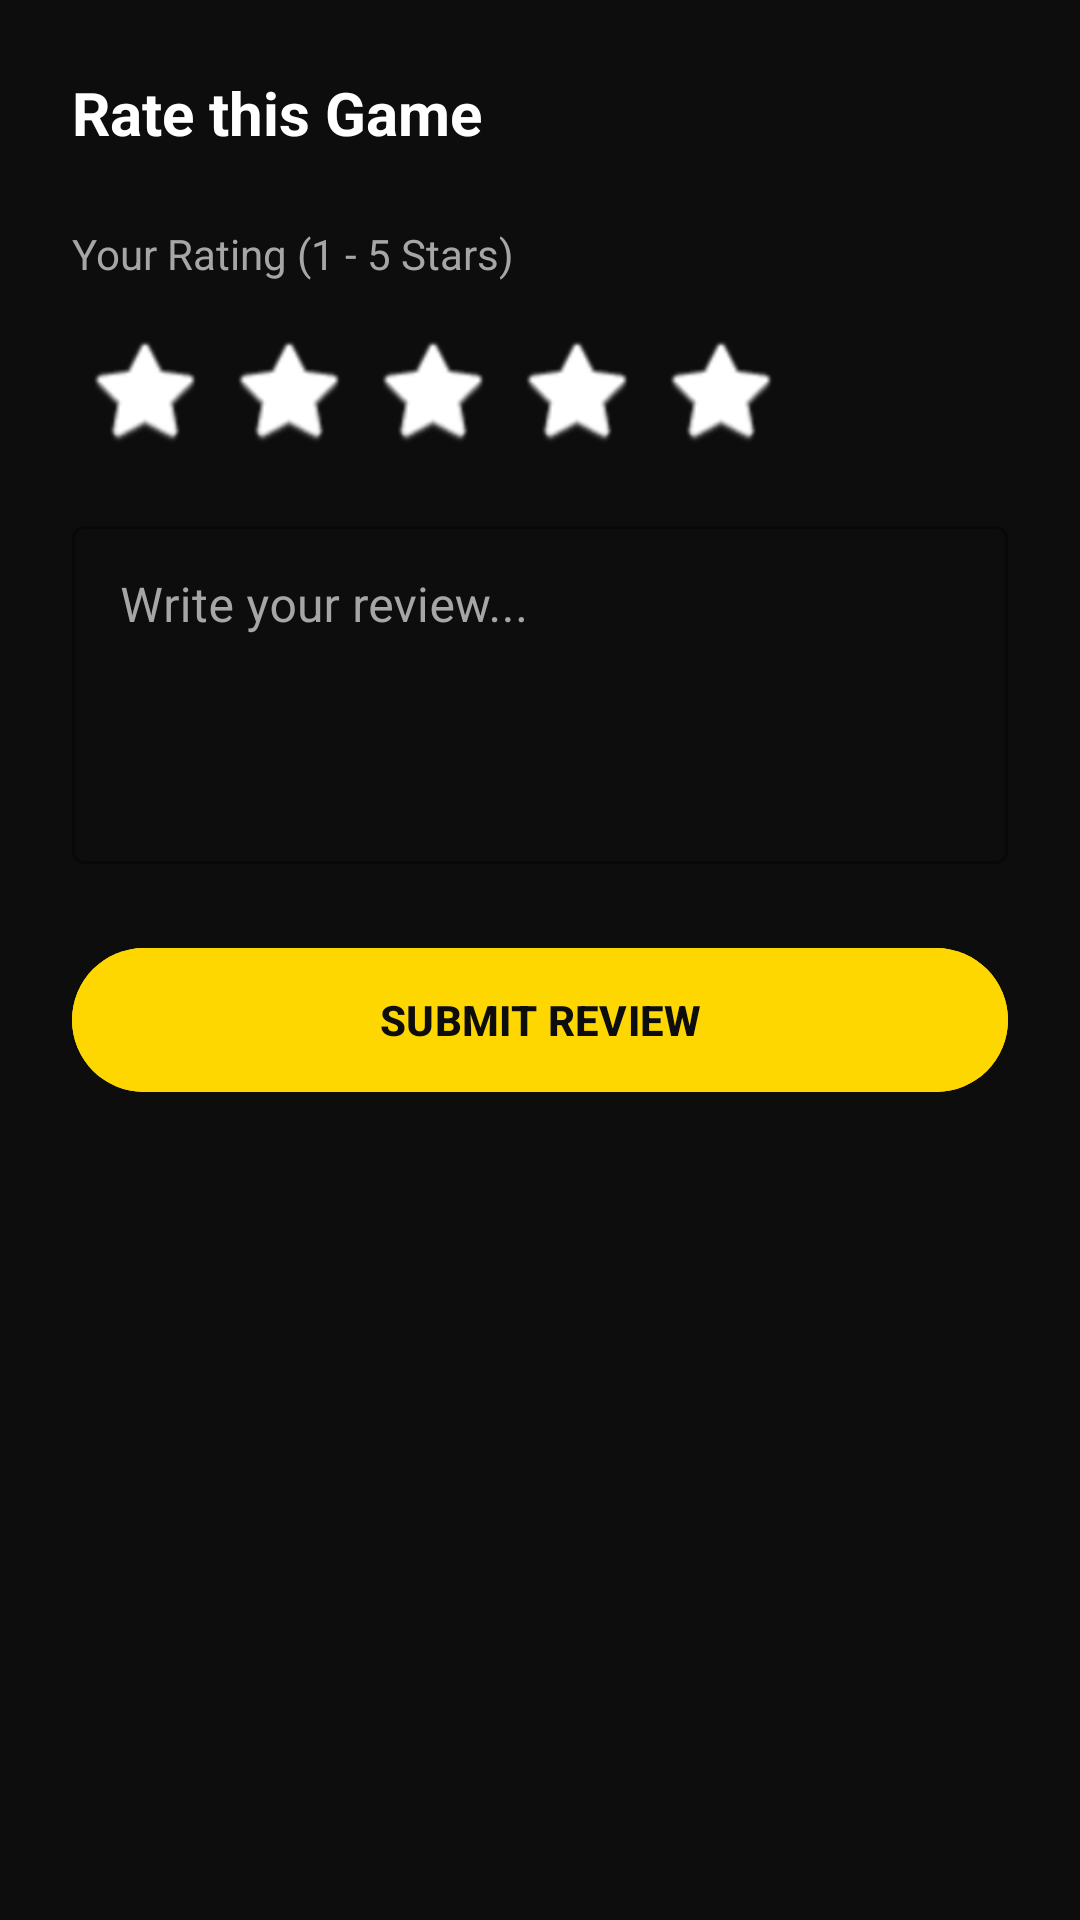

Screen size 1080×1920. Icon name, then its center in pixels as (x=x, y=y):
star off: (x=145, y=391), (x=289, y=391), (x=433, y=391), (x=577, y=391), (x=721, y=391)
